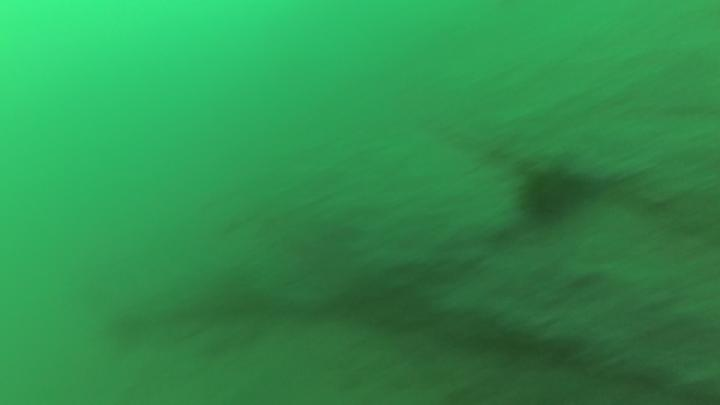echinus: (513, 164, 591, 227)
